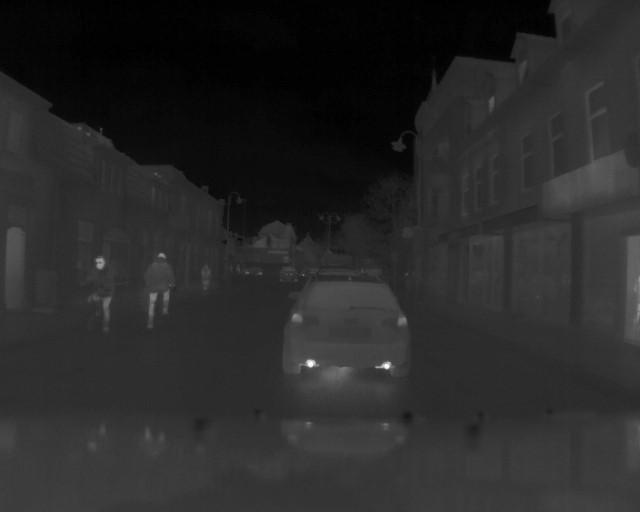car: (278, 268, 416, 383)
person: (142, 242, 177, 334), (82, 247, 118, 335), (199, 251, 216, 304)
